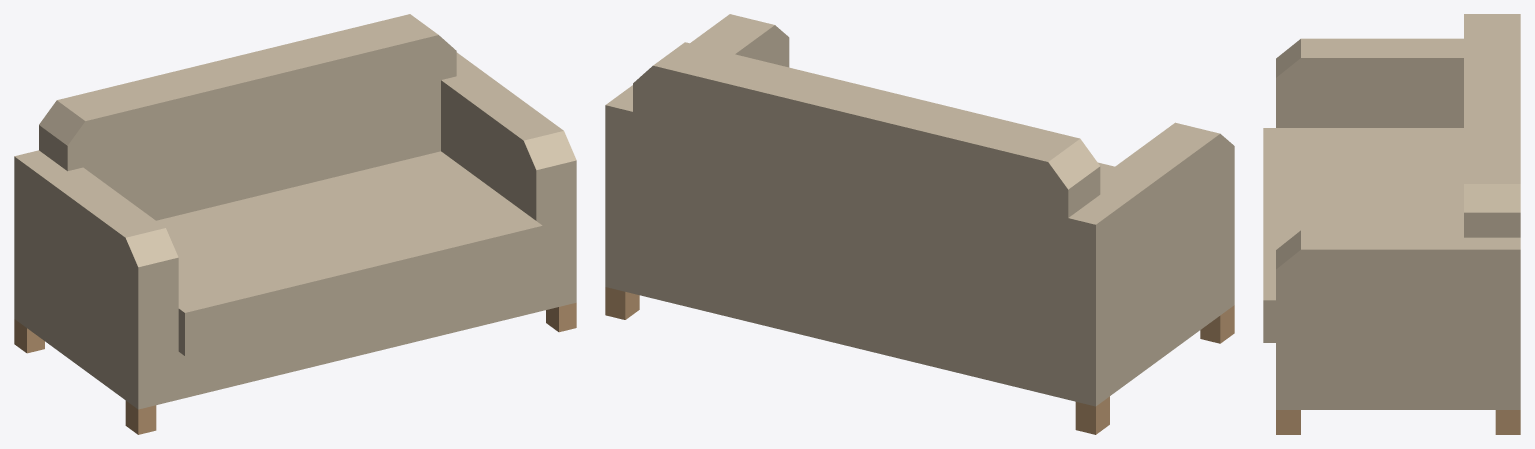
Rendered from sofa-2seat.glb.
3 renders of one model, left to right at view 1: azimuth 30°, elevation 25°; view 2: azimuth 150°, elevation 25°; view 3: azimuth 270°, elevation 25°, orthographic. The views are drawn at different scales.
Parts seen in each view (by area): view 1: sofa-2seat; view 2: sofa-2seat; view 3: sofa-2seat.
Part boxes in pixels (<box>): sofa-2seat: <box>14,14,576,434</box>; sofa-2seat: <box>605,14,1234,434</box>; sofa-2seat: <box>1263,14,1520,434</box>.
Bounding box in the file's own units: 1.65 × 0.84 × 0.85.
